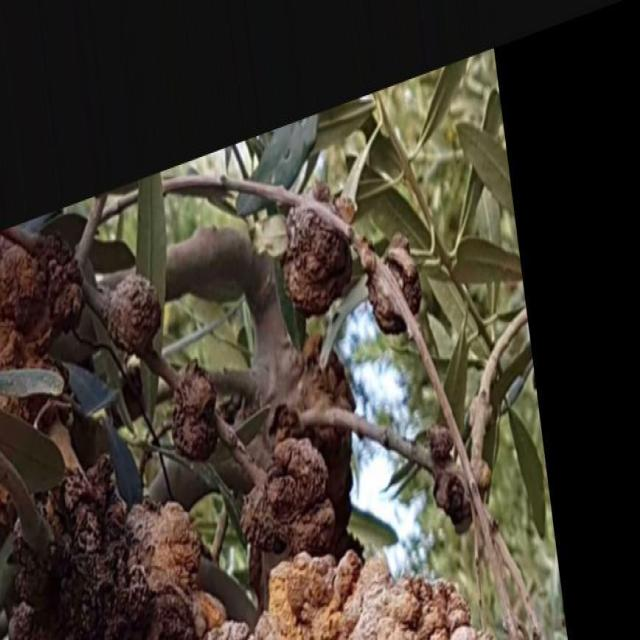Tuberculosis: (9, 463, 226, 639), (255, 553, 470, 639), (0, 231, 83, 369), (243, 437, 335, 554), (282, 207, 352, 318), (428, 424, 472, 533), (172, 360, 219, 462), (107, 274, 161, 360), (382, 234, 421, 315), (368, 273, 406, 334), (310, 181, 355, 223)
